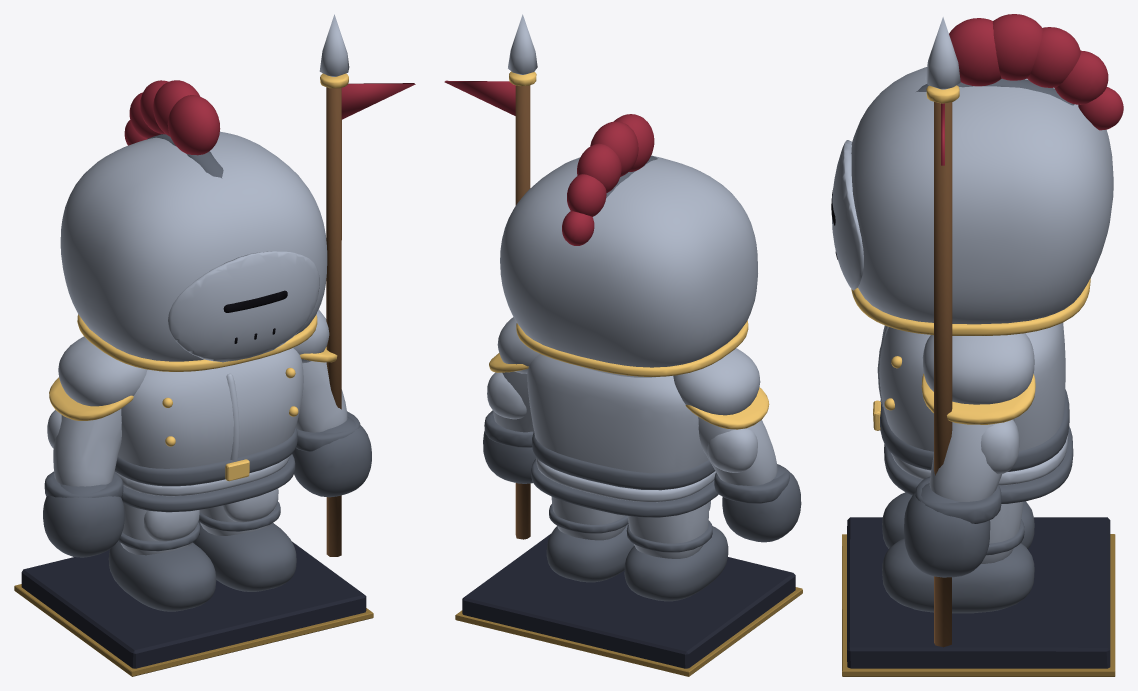
The model's file is armadura.glb.
The picture shows the model from 3 angles, left to right: view 1: azimuth 30°, elevation 25°; view 2: azimuth 150°, elevation 25°; view 3: azimuth 270°, elevation 25°; orthographic projection. The views are drawn at different scales.
Parts seen in each view (by area): view 1: helm, torso, stand, arm_r, leg_r, lance, arm_l, leg_l; view 2: helm, torso, stand, arm_r, leg_r, arm_l, leg_l, lance; view 3: helm, stand, arm_l, torso, lance, leg_l, leg_r.
Boxes of the visible parts, x1=… form: helm: x1=60, y1=80, x2=327, y2=371; torso: x1=114, y1=348, x2=303, y2=512; stand: x1=14, y1=541, x2=373, y2=676; arm_r: x1=43, y1=336, x2=147, y2=557; leg_r: x1=108, y1=503, x2=216, y2=611; lance: x1=319, y1=14, x2=415, y2=556; arm_l: x1=292, y1=309, x2=371, y2=497; leg_l: x1=193, y1=488, x2=296, y2=591; helm: x1=500, y1=114, x2=757, y2=377; torso: x1=527, y1=354, x2=718, y2=517; stand: x1=455, y1=534, x2=802, y2=676; arm_r: x1=673, y1=348, x2=801, y2=542; leg_r: x1=624, y1=501, x2=728, y2=601; arm_l: x1=483, y1=317, x2=539, y2=483; leg_l: x1=546, y1=496, x2=634, y2=582; lance: x1=444, y1=14, x2=537, y2=539; helm: x1=831, y1=14, x2=1123, y2=335; stand: x1=842, y1=517, x2=1115, y2=676; arm_l: x1=904, y1=333, x2=1035, y2=577; torso: x1=873, y1=323, x2=1073, y2=503; lance: x1=925, y1=17, x2=960, y2=647; leg_l: x1=882, y1=501, x2=1034, y2=613; leg_r: x1=882, y1=492, x2=1034, y2=548.
Bounding box in the file's own units: 0.958 × 1.44 × 0.575.
